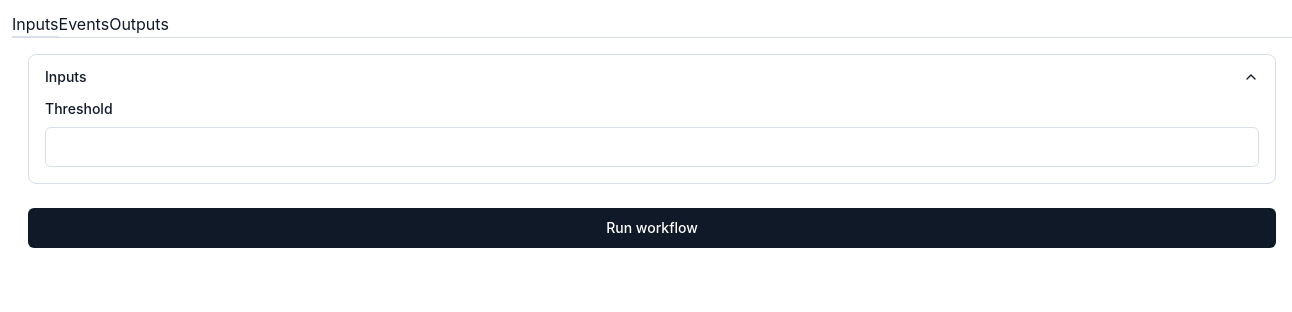
it: RunPanel — before a run › will not run a value the form is flagging as out of range
Type "1.5" into the field labelled "Threshold". click: (652, 147)
box: [45,127,1259,167]
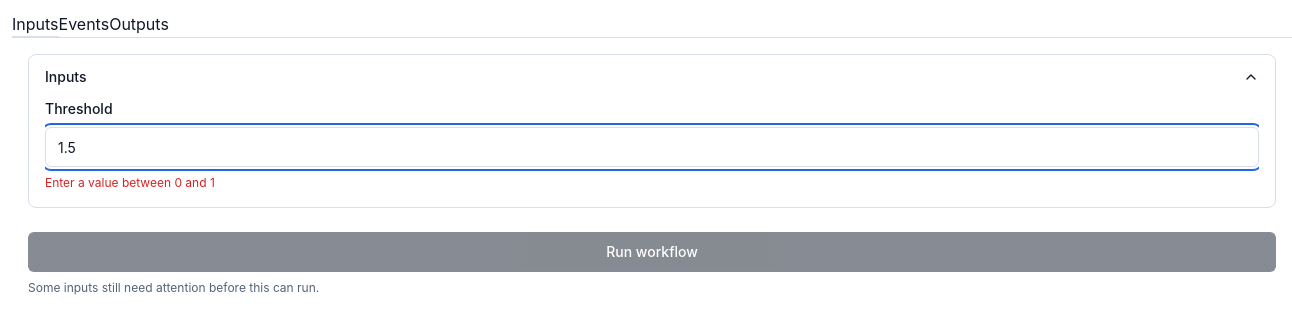
Now the text "Enter a value between 0 and 1" is shown, box [45,175,215,190]
Now the button "Run workflow" is disabled, box [28,232,1276,272]
